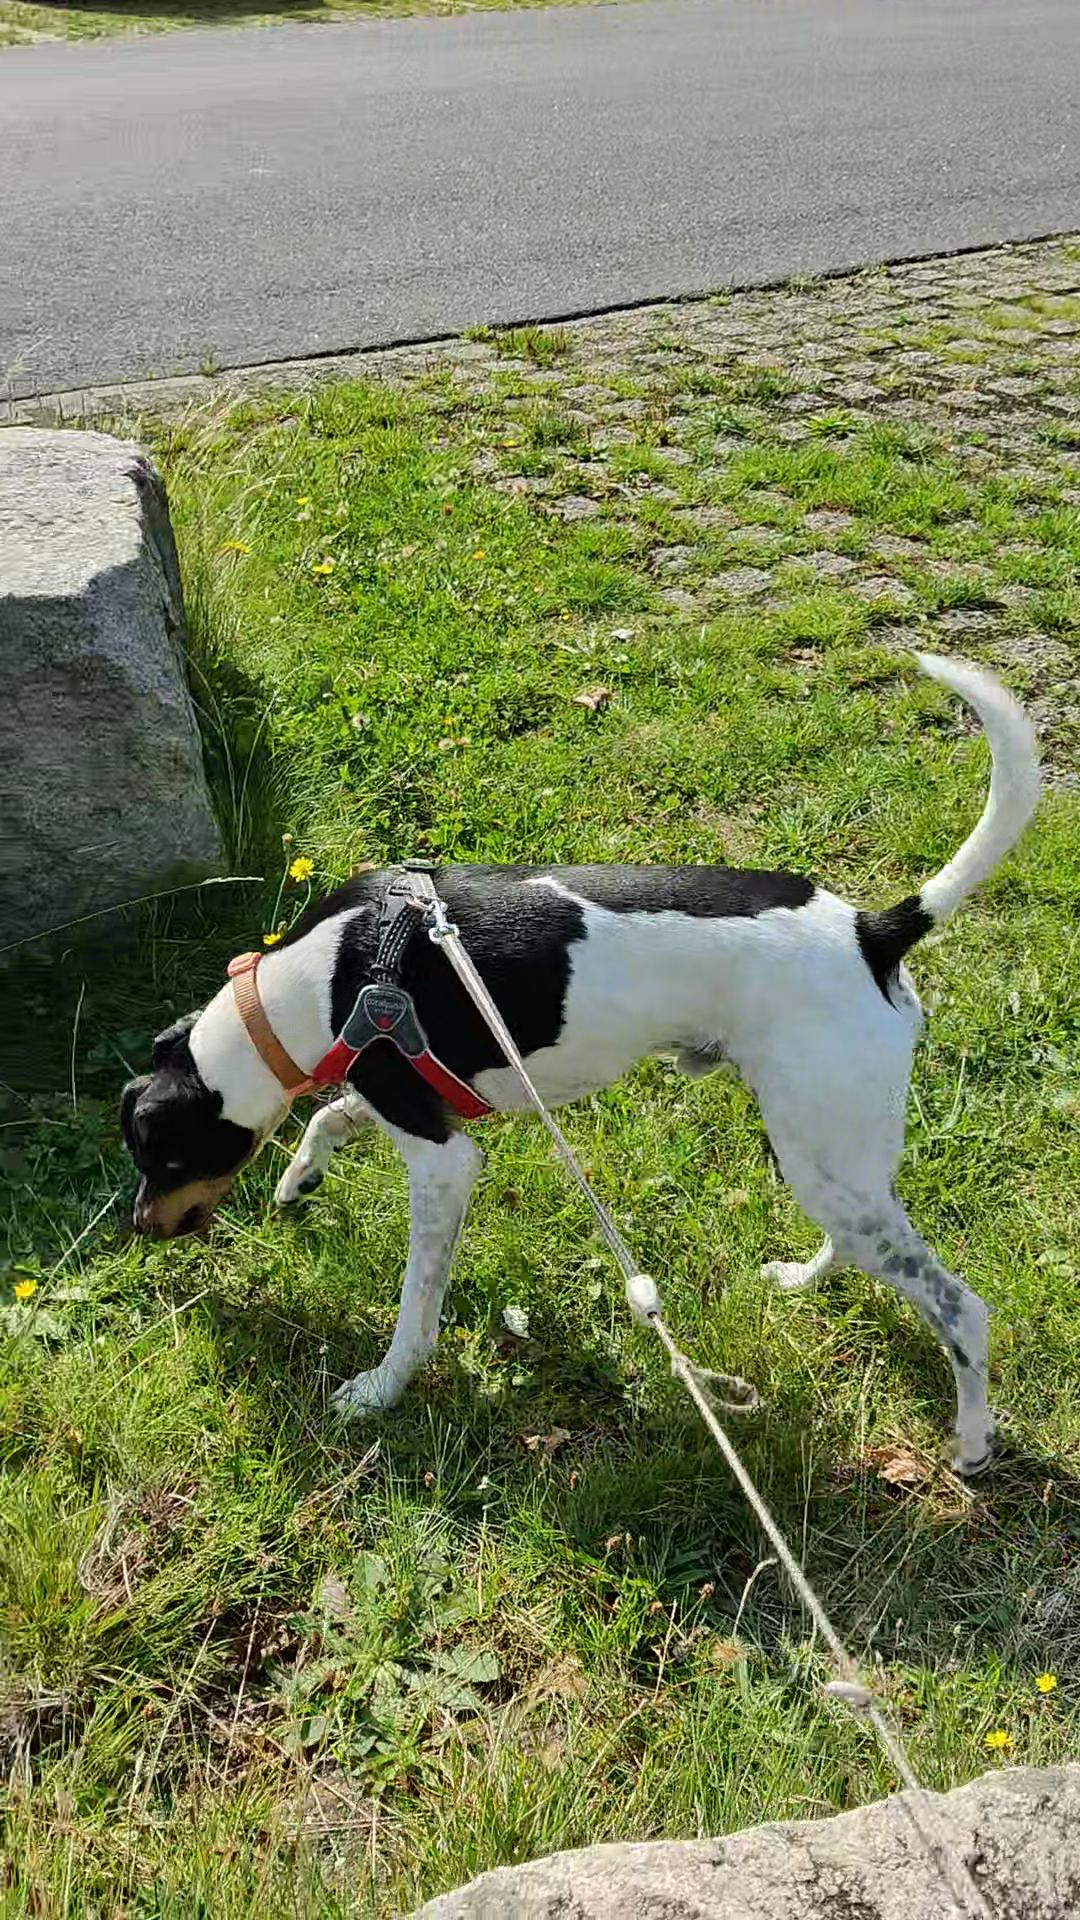Dog: (96, 630, 1058, 1482)
